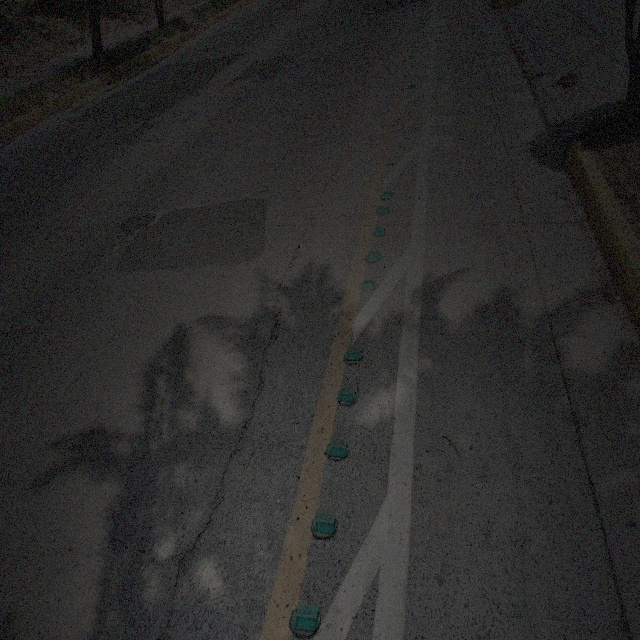pothole: (234, 70, 260, 88)
